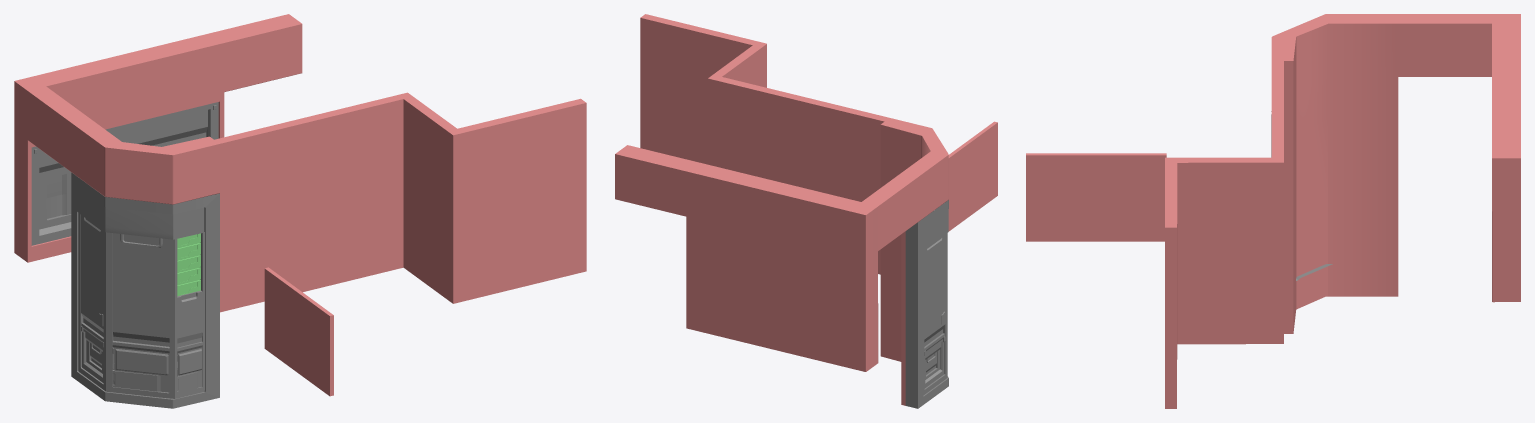
File: S_Envi_FZFBase_Wall_02h.gltf
3 views of the same model, side by side, from view 1: azimuth 30°, elevation 25°; view 2: azimuth 150°, elevation 25°; view 3: azimuth 270°, elevation 25° (orthographic). The views are drawn at different scales.
Parts seen in each view (by area): view 1: S_Envi_FZFBase_Wall_02h; view 2: S_Envi_FZFBase_Wall_02h; view 3: S_Envi_FZFBase_Wall_02h.
Boxes of the visible parts, box(x1,y1,x2,y2) form: S_Envi_FZFBase_Wall_02h: box(14, 14, 586, 408); S_Envi_FZFBase_Wall_02h: box(615, 14, 997, 408); S_Envi_FZFBase_Wall_02h: box(1026, 14, 1520, 408).
Size of the model in its own units: 20.85 by 12.42 by 20.4.
